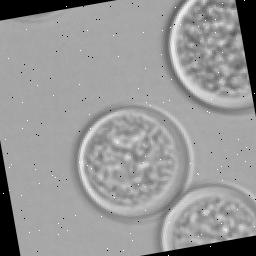picoshell: (75, 104, 195, 221), (166, 0, 254, 112), (159, 182, 256, 252)
